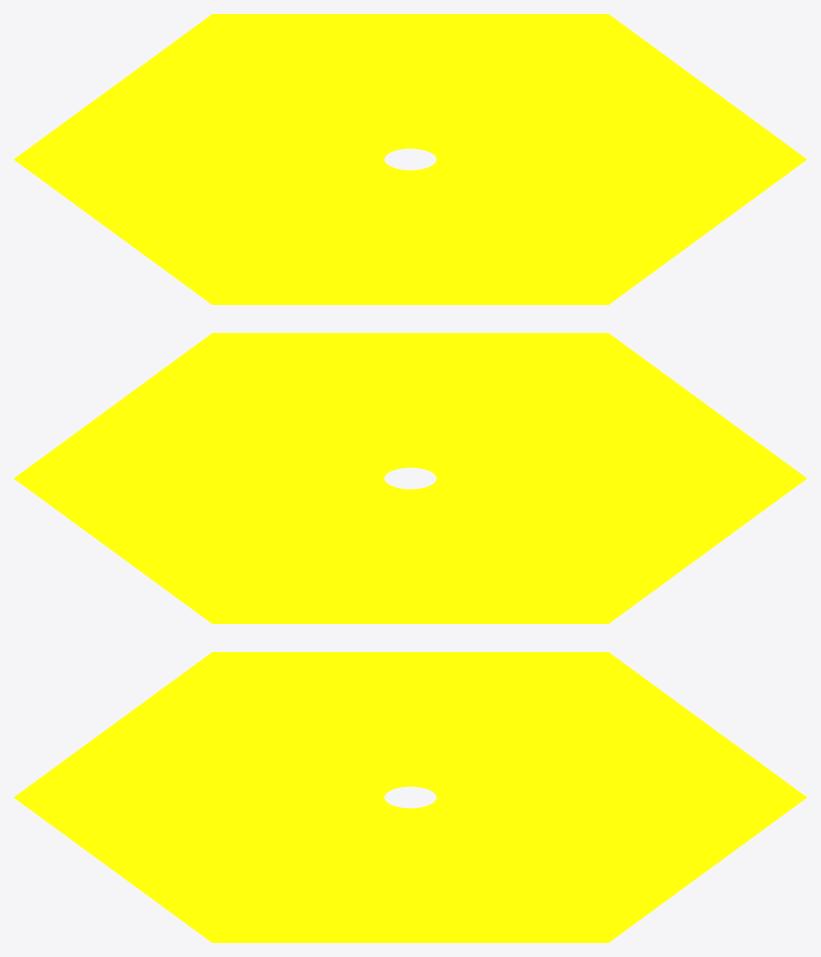
File: Hexagon_Floor_Exit.fbx
3 views of the same model, one above another, from view 1: azimuth 30°, elevation 25°; view 2: azimuth 150°, elevation 25°; view 3: azimuth 270°, elevation 25° (orthographic).
Visible parts, largest first — view 1: Hexagon_Floor_No_Exit; view 2: Hexagon_Floor_No_Exit; view 3: Hexagon_Floor_No_Exit.
Part boxes in pixels (bbox=[...]): Hexagon_Floor_No_Exit: bbox=[14, 14, 806, 304]; Hexagon_Floor_No_Exit: bbox=[14, 333, 806, 623]; Hexagon_Floor_No_Exit: bbox=[14, 652, 806, 942].
Size of what is drawn, in the model's own units: 11778 by 10.01 by 13600.
